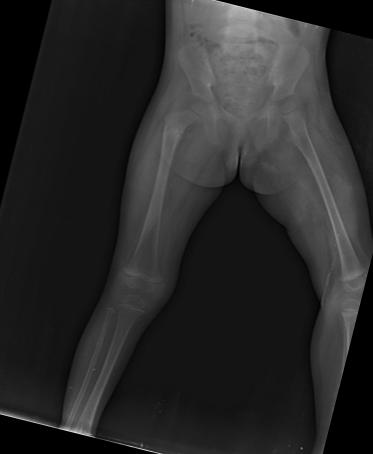fractured: (158, 120, 187, 150)
